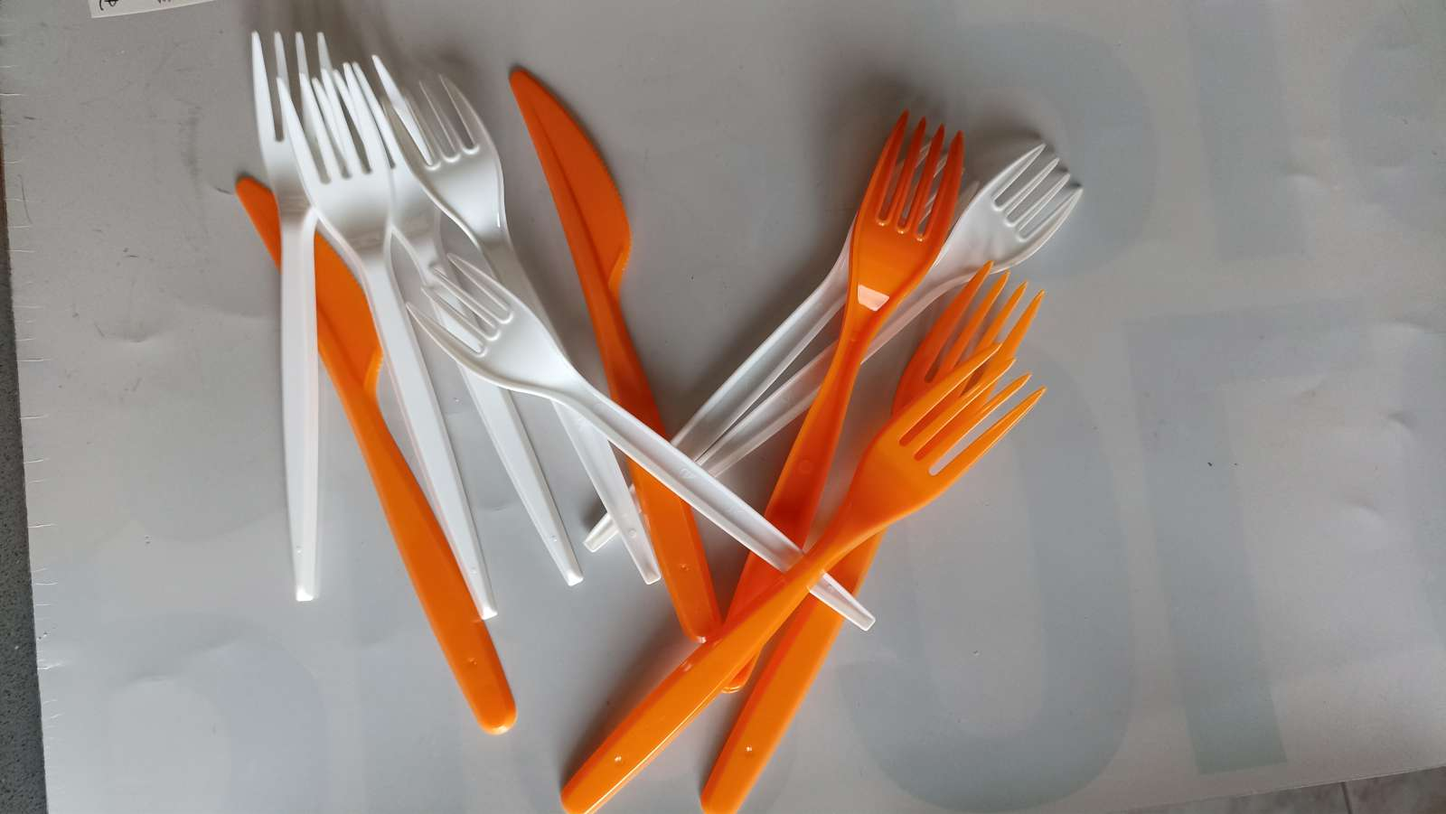plastic: (192, 24, 1124, 814)
